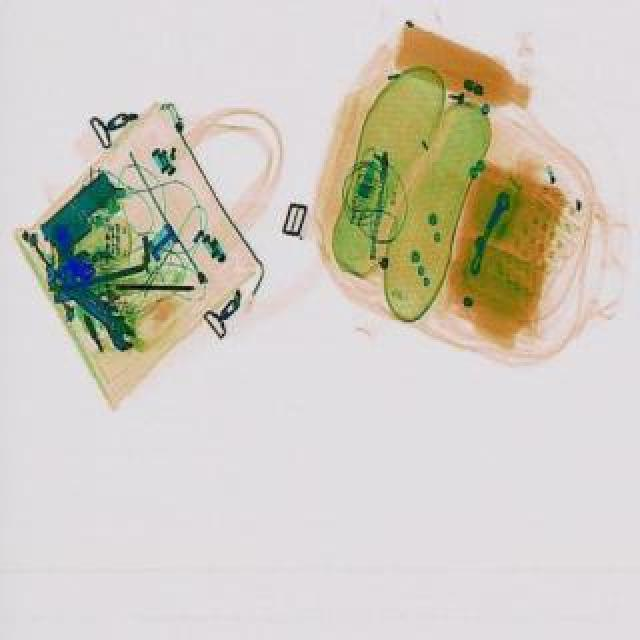scissors: (40, 268, 144, 360), (54, 270, 120, 326)
